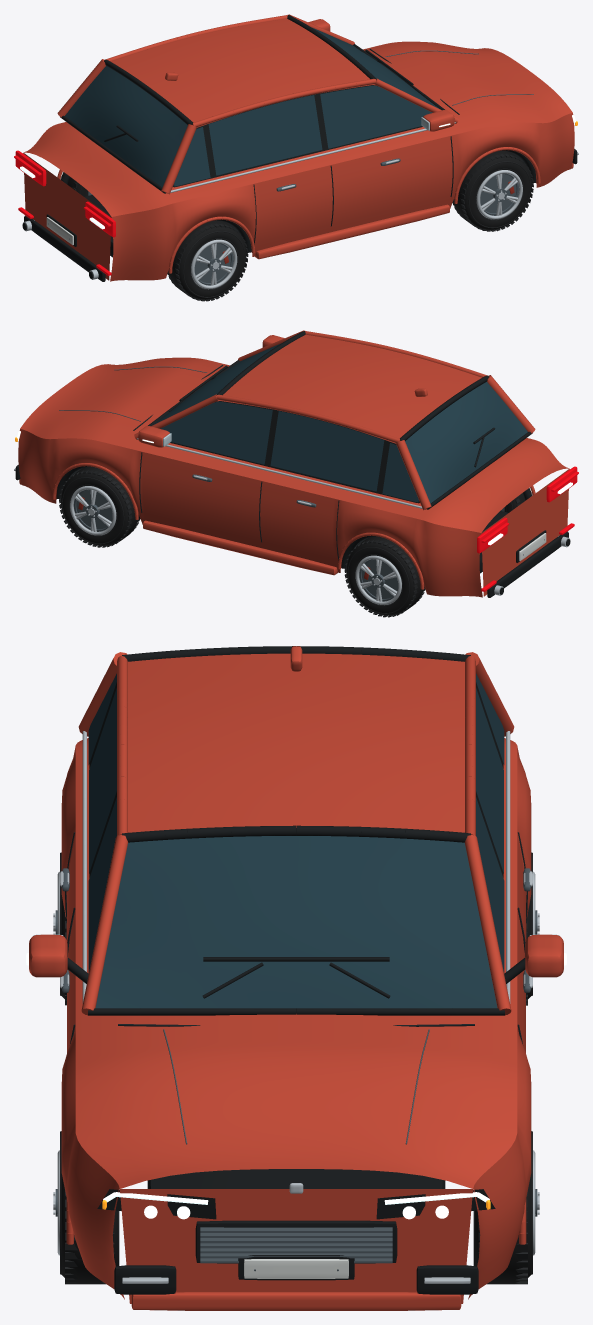
File: hatchback.glb
The picture shows the model from 3 angles, top to bottom: view 1: azimuth 30°, elevation 25°; view 2: azimuth 150°, elevation 25°; view 3: azimuth 270°, elevation 25°; orthographic projection. The views are drawn at different scales.
Parts seen in each view (by area): view 1: Paint / body colour, Smoked automotive glass, Satin black trim, Tyre rubber, Satin aluminium, Tyre tread edges, Graphite alloy, Rear light lenses, Panel gaps; view 2: Paint / body colour, Smoked automotive glass, Satin black trim, Tyre rubber, Satin aluminium, Tyre tread edges, Graphite alloy, Rear light lenses, Panel gaps; view 3: Paint / body colour, Smoked automotive glass, Satin black trim, Graphite alloy, Satin aluminium, Tyre rubber, Tyre tread edges, Plain number plates, LED daylight, Panel gaps.
Part boxes in pixels (bbox=[...]): Paint / body colour: bbox=[23, 14, 574, 281]; Smoked automotive glass: bbox=[65, 27, 440, 187]; Satin black trim: bbox=[22, 15, 577, 281]; Tyre rubber: bbox=[67, 150, 531, 299]; Satin aluminium: bbox=[23, 122, 578, 289]; Tyre tread edges: bbox=[70, 152, 533, 301]; Graphite alloy: bbox=[48, 50, 533, 285]; Rear light lenses: bbox=[14, 150, 115, 275]; Panel gaps: bbox=[253, 49, 459, 244]; Paint / body colour: bbox=[18, 330, 569, 597]; Smoked automotive glass: bbox=[152, 343, 527, 503]; Satin black trim: bbox=[15, 331, 570, 597]; Tyre rubber: bbox=[61, 466, 525, 615]; Satin aluminium: bbox=[14, 438, 569, 604]; Tyre tread edges: bbox=[59, 468, 520, 617]; Graphite alloy: bbox=[59, 366, 544, 601]; Rear light lenses: bbox=[477, 466, 578, 591]; Panel gaps: bbox=[133, 365, 339, 560]; Paint / body colour: bbox=[29, 646, 563, 1310]; Smoked automotive glass: bbox=[88, 673, 504, 1008]; Satin black trim: bbox=[67, 646, 525, 1294]; Graphite alloy: bbox=[55, 868, 537, 1271]; Satin aluminium: bbox=[53, 731, 539, 1283]; Tyre rubber: bbox=[61, 852, 531, 1284]; Tyre tread edges: bbox=[60, 852, 532, 1284]; Plain number plates: bbox=[244, 1259, 348, 1278]; LED daylight: bbox=[26, 953, 566, 1219]; Panel gaps: bbox=[65, 832, 527, 1043].
Bounding box in the file's own units: 4.29 × 1.55 × 2.09.
